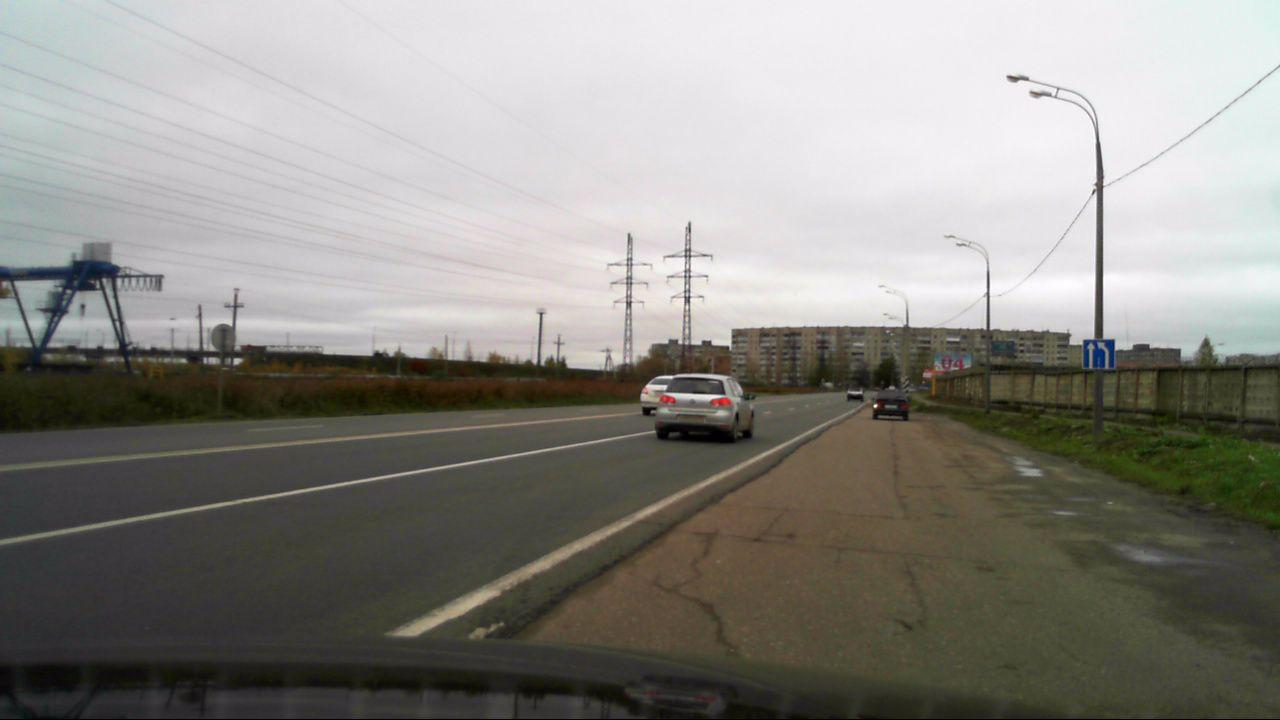5_15_5: (1083, 338, 1114, 370)
